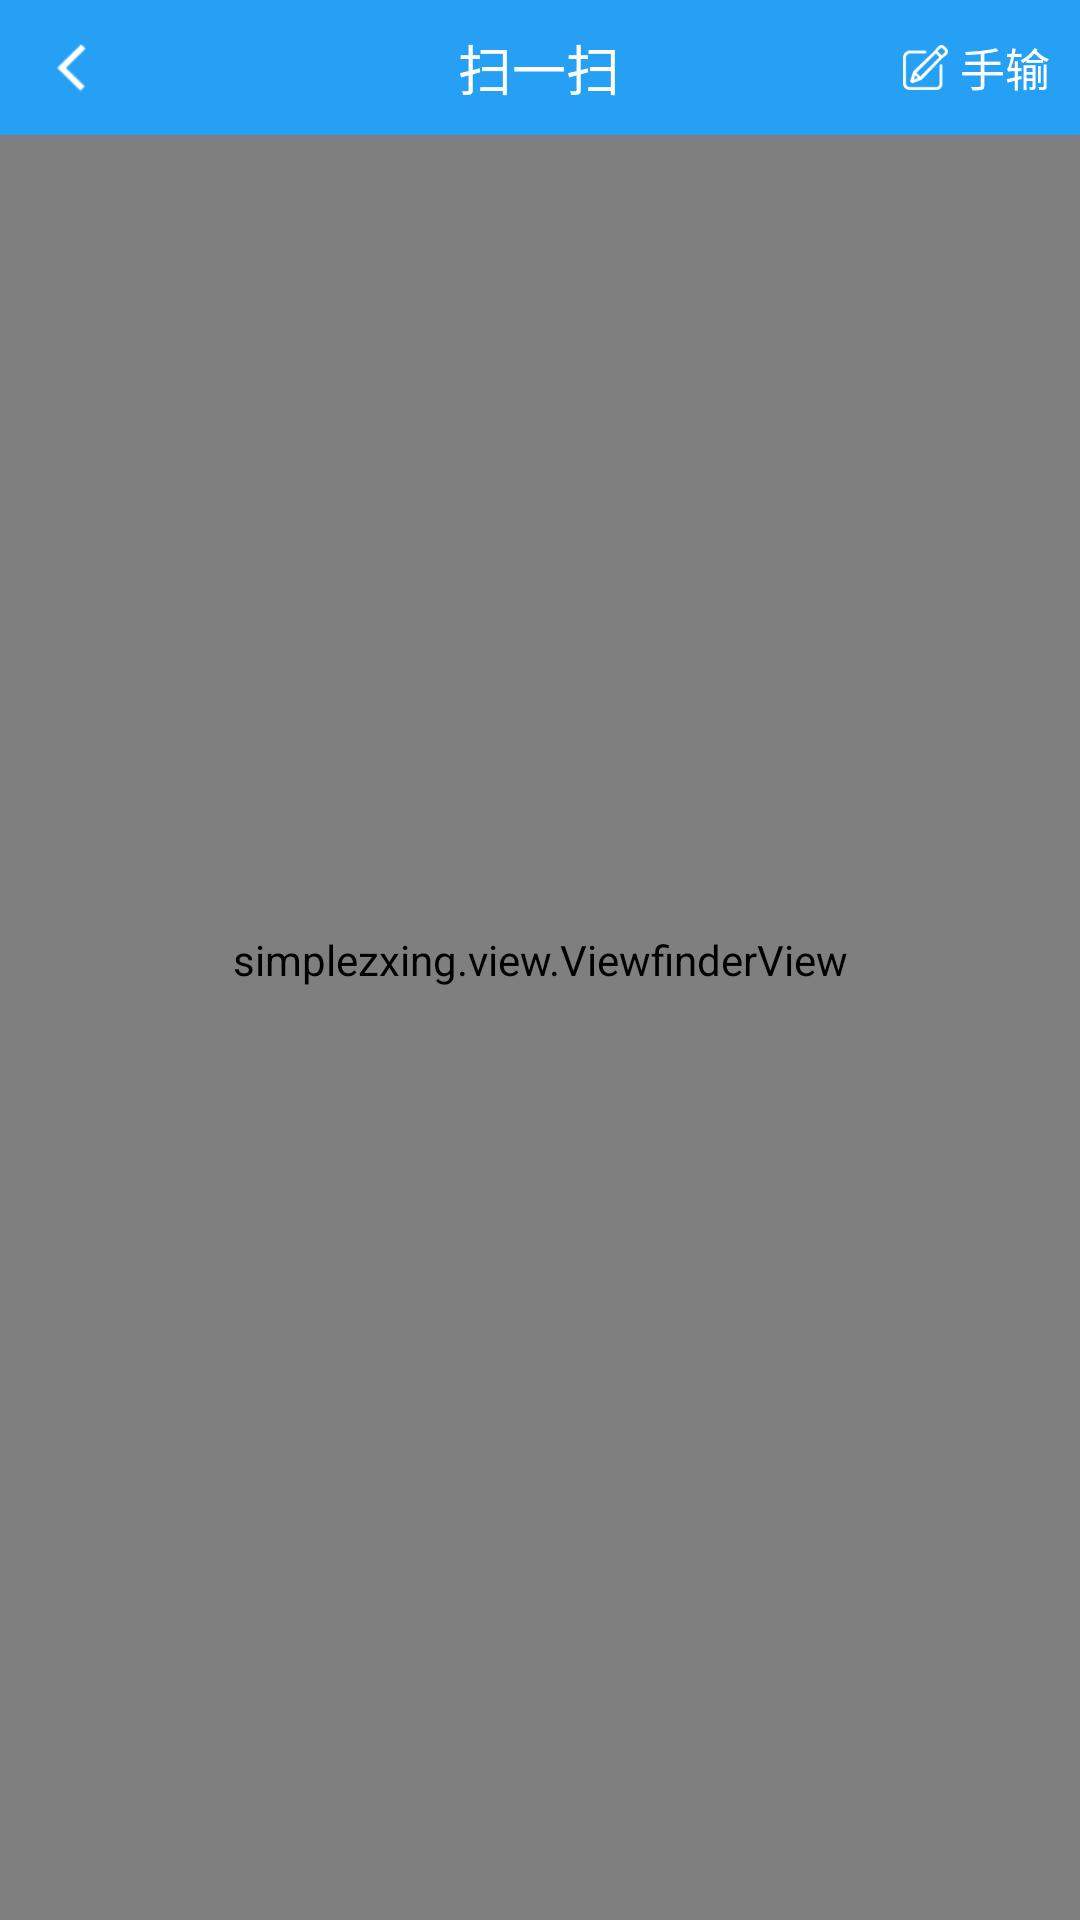

Locate icon controls on the screen. Image size 1080w x 1920h, boxes as rect(x1, y1, x2, y2).
back: rect(57, 44, 86, 92)
edit: rect(903, 45, 948, 90)
